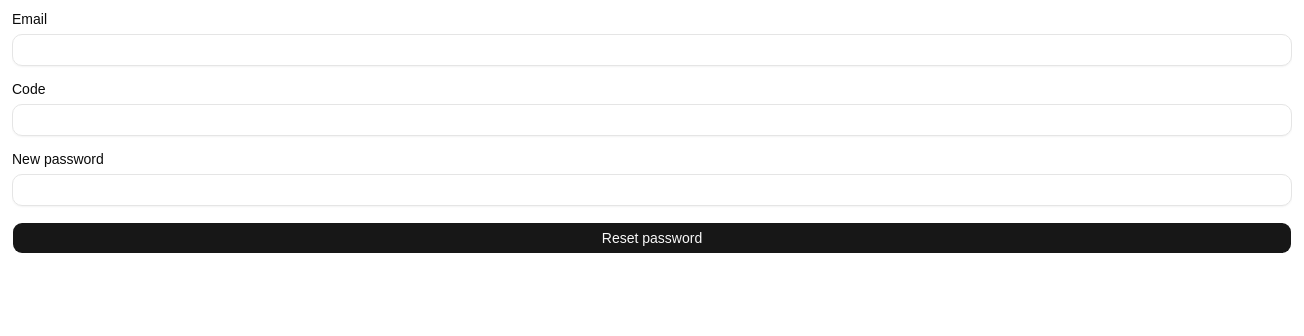
ResetPasswordForm › shows the same generic error for any 401 cause
In the field labelled "Email": (652, 50) [12,34,1292,66], type "ada@example.com"
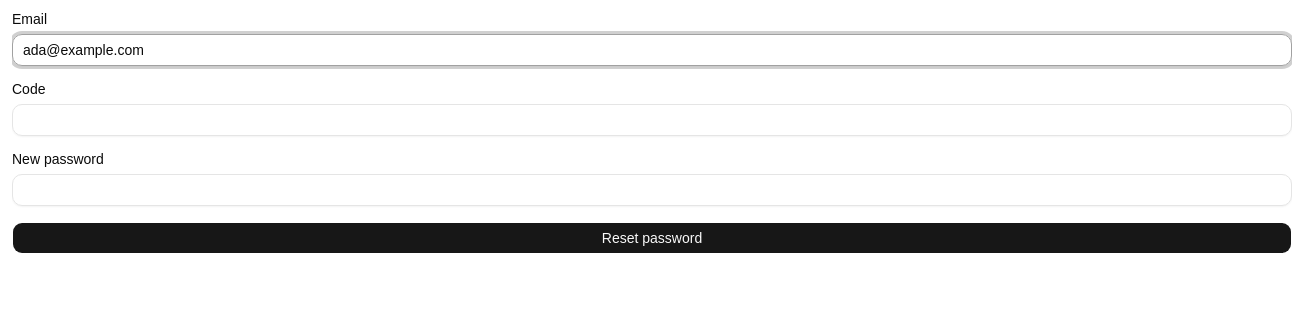
In the field labelled "Code": (652, 120) [12,104,1292,136], type "000000"
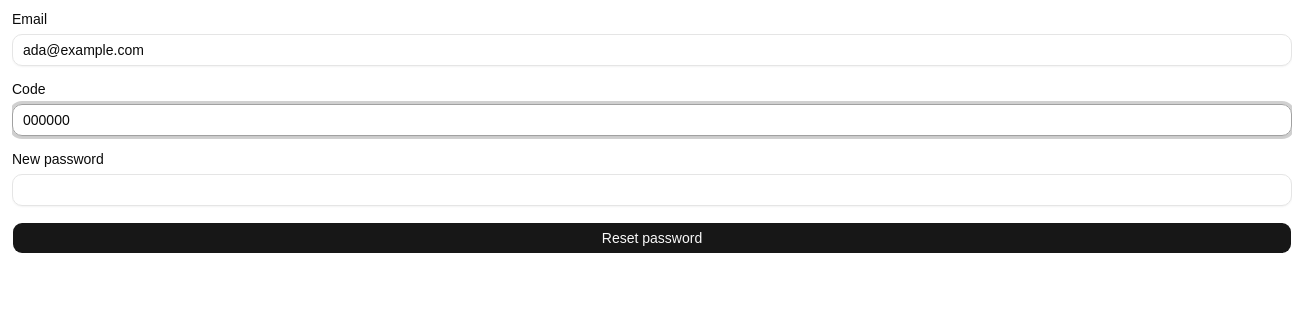
In the password field labelled "New password": (652, 190) [12,174,1292,206], type "supersecret"
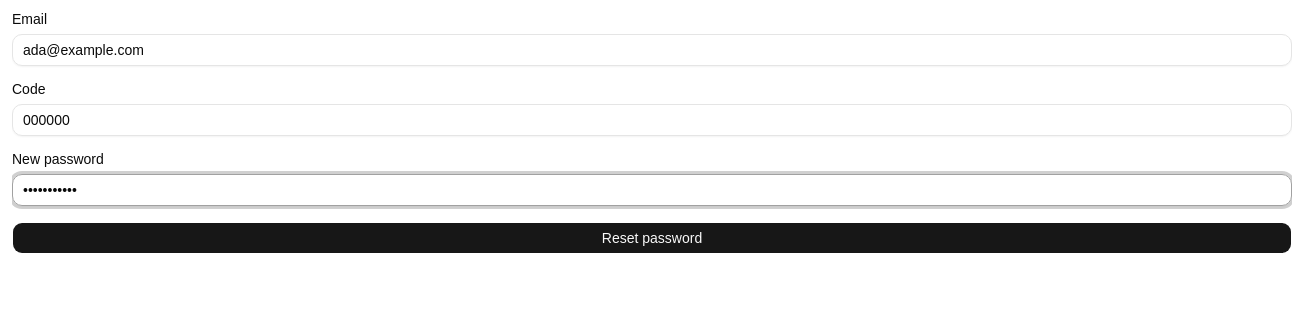
Click the button "Reset password": (652, 238) [12,222,1292,254]
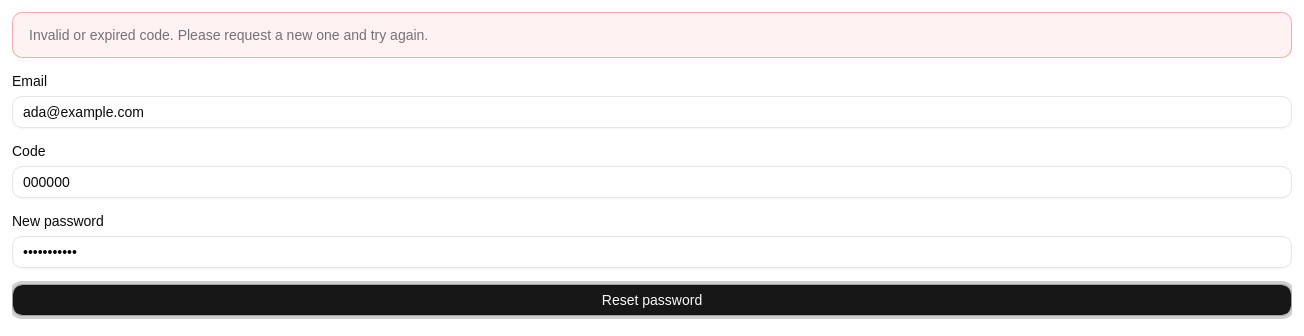
Check: the text "Invalid or expired code" is shown, box [29,27,428,43]
